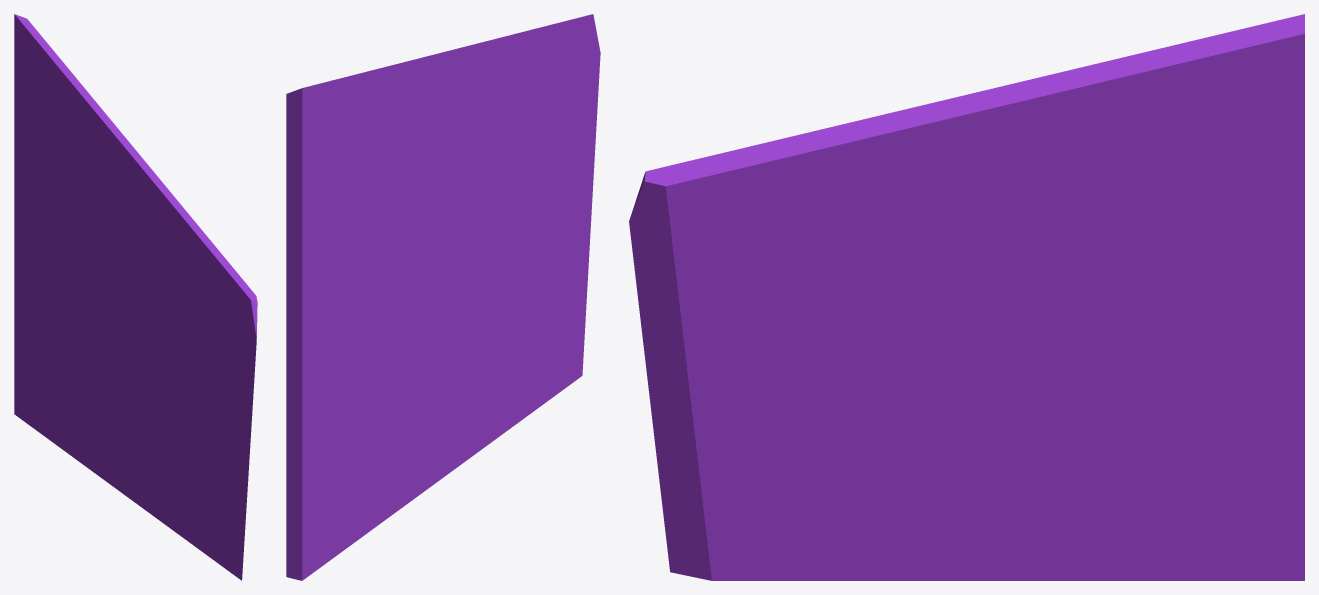
The model's file is Glass_65_3_chunks.fbx.
The picture shows the model from 3 angles, left to right: view 1: azimuth 30°, elevation 25°; view 2: azimuth 150°, elevation 25°; view 3: azimuth 270°, elevation 25°; orthographic projection. The views are drawn at different scales.
Visible parts, largest first — view 1: Glass_65_3_0, Glass_65_3_1, Glass_65_3_2, Glass_65_3_7, Glass_65_3_6, Glass_65_3_9, Glass_65_3_11, Glass_65_3_4, Glass_65_3_10, Glass_65_3_5, Glass_65_3_8, Glass_65_3_3; view 2: Glass_65_3_0, Glass_65_3_1, Glass_65_3_2, Glass_65_3_7, Glass_65_3_11, Glass_65_3_9, Glass_65_3_6, Glass_65_3_4, Glass_65_3_10, Glass_65_3_5, Glass_65_3_8, Glass_65_3_3; view 3: Glass_65_3_1, Glass_65_3_0, Glass_65_3_6, Glass_65_3_7, Glass_65_3_2, Glass_65_3_4, Glass_65_3_9, Glass_65_3_11, Glass_65_3_3, Glass_65_3_5, Glass_65_3_8, Glass_65_3_12 (+1 smaller).
Boxes of the visible parts, <box> form: Glass_65_3_0: <box>151,260,257,509</box>; Glass_65_3_1: <box>153,350,246,580</box>; Glass_65_3_2: <box>76,337,155,515</box>; Glass_65_3_7: <box>14,14,123,211</box>; Glass_65_3_6: <box>109,201,232,320</box>; Glass_65_3_9: <box>14,295,83,435</box>; Glass_65_3_11: <box>14,108,63,295</box>; Glass_65_3_4: <box>59,178,155,372</box>; Glass_65_3_10: <box>51,200,96,371</box>; Glass_65_3_5: <box>14,97,110,256</box>; Glass_65_3_8: <box>120,134,193,220</box>; Glass_65_3_3: <box>44,371,85,458</box>; Glass_65_3_0: <box>470,14,600,280</box>; Glass_65_3_1: <box>473,247,587,455</box>; Glass_65_3_2: <box>378,277,475,524</box>; Glass_65_3_7: <box>286,54,436,189</box>; Glass_65_3_11: <box>286,203,363,433</box>; Glass_65_3_9: <box>286,368,387,580</box>; Glass_65_3_6: <box>419,24,552,219</box>; Glass_65_3_4: <box>357,208,475,336</box>; Glass_65_3_10: <box>348,227,403,403</box>; Glass_65_3_5: <box>286,160,420,214</box>; Glass_65_3_8: <box>432,38,499,127</box>; Glass_65_3_3: <box>339,400,389,553</box>; Glass_65_3_1: <box>658,300,935,580</box>; Glass_65_3_0: <box>629,149,885,468</box>; Glass_65_3_6: <box>729,121,1028,316</box>; Glass_65_3_7: <box>1001,14,1304,182</box>; Glass_65_3_2: <box>930,391,1085,580</box>; Glass_65_3_4: <box>928,210,1186,396</box>; Glass_65_3_9: <box>1125,377,1304,580</box>; Glass_65_3_11: <box>1184,161,1304,409</box>; Glass_65_3_3: <box>1050,383,1255,580</box>; Glass_65_3_5: <box>1025,122,1304,276</box>; Glass_65_3_8: <box>839,86,1050,201</box>; Glass_65_3_12: <box>1142,215,1213,387</box>.
Size of the model in its own units: 27.2 by 808 by 887.
